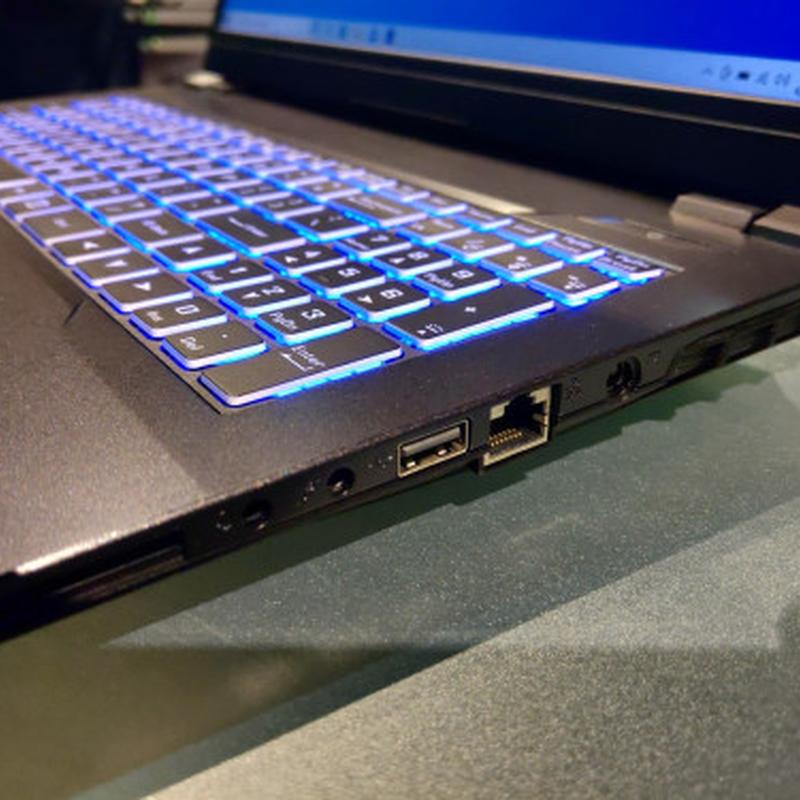AUDIO_INPUT: (295, 455, 366, 511)
AUDIO_OUTPUT: (205, 489, 283, 548)
ETHERNET: (471, 380, 561, 470)
USB: (383, 404, 470, 482)
